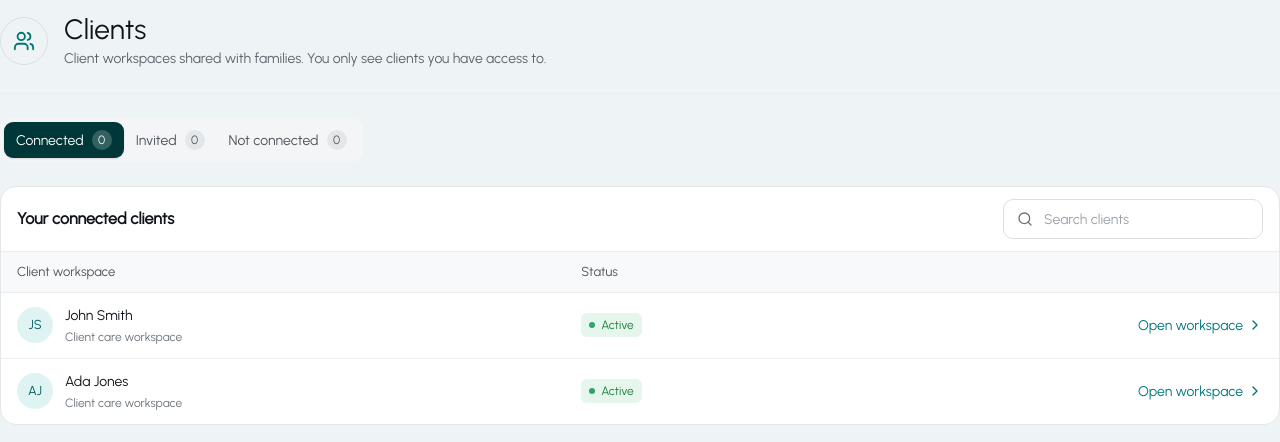
Test: filters the loaded clients by name
The width and height of the screenshot is (1280, 442).
Check: the text "John Smith" is shown, box [65, 306, 133, 324]
Type "ada" into the search field labelled "Search clients" at (1133, 219), box [1003, 199, 1263, 239]
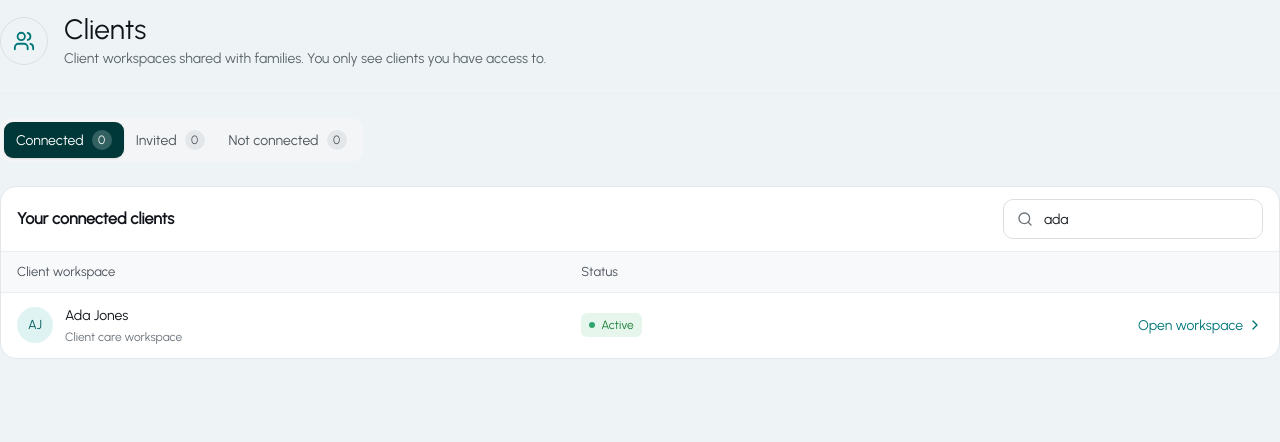
Check: the link with aria-label "Open care workspace for Ada Jones" is shown, box [1138, 314, 1263, 336]
Check: the text "John Smith" is gone
